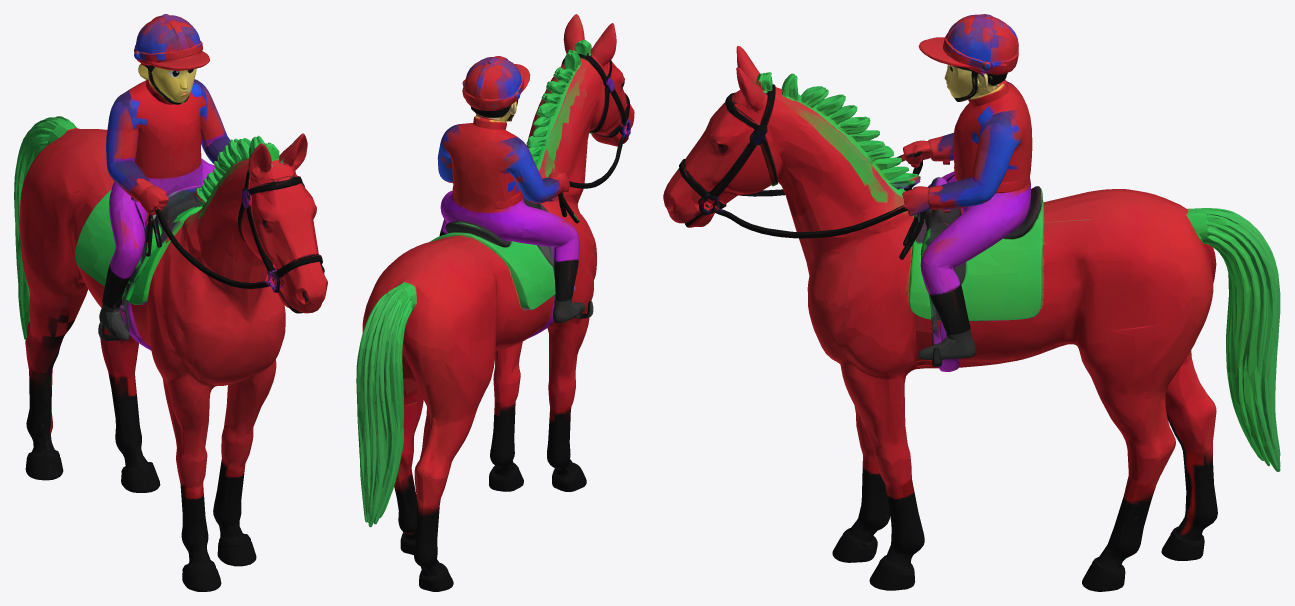
Rendered from meshy-esguio-lisa.glb.
3 views of the same model, side by side, from view 1: azimuth 30°, elevation 25°; view 2: azimuth 150°, elevation 25°; view 3: azimuth 270°, elevation 25° (orthographic). The views are drawn at different scales.
Bounding box in the file's own units: 0.6885 × 1.88 × 1.9.
Materials: 1 (1 with a texture image).
